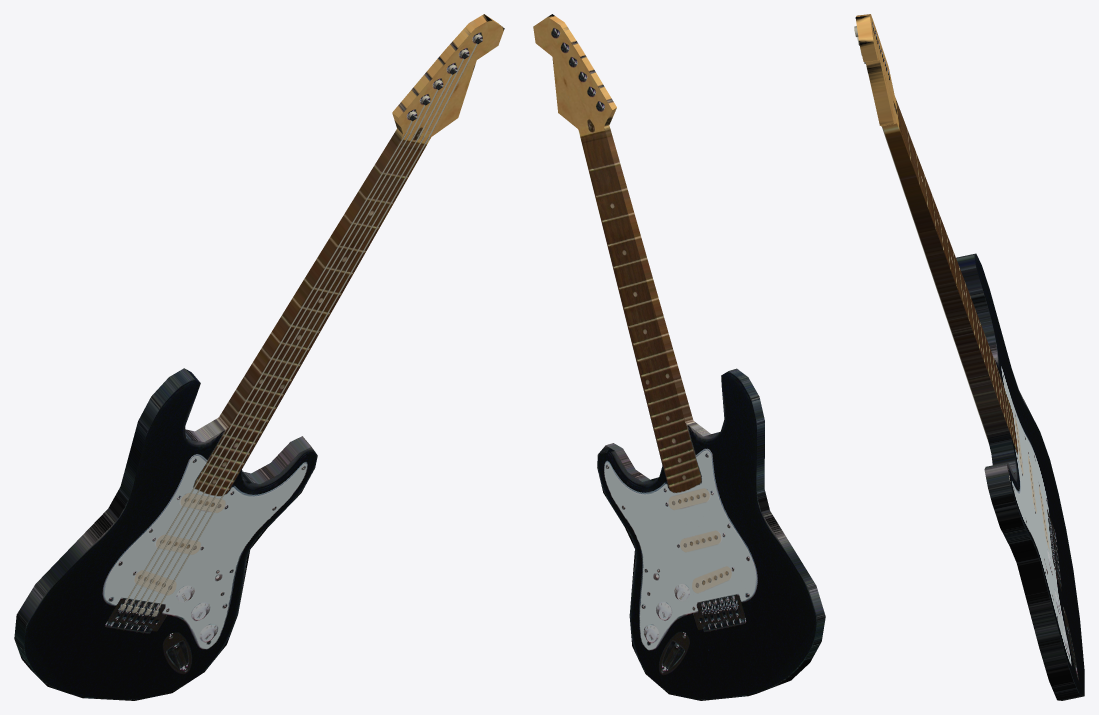
File: GuitarCurse3.fbx
3 renders of one model, left to right at view 1: azimuth 30°, elevation 25°; view 2: azimuth 150°, elevation 25°; view 3: azimuth 270°, elevation 25°, orthographic. The views are drawn at different scales.
Visible parts, largest first — view 1: Gitarre; view 2: Gitarre; view 3: Gitarre.
Part boxes in pixels (x1,y1,x2,y2): Gitarre: (14,14,504,700); Gitarre: (533,14,825,700); Gitarre: (854,14,1084,700).
Size of the model in its own units: 37.03 by 58.89 by 14.97.
